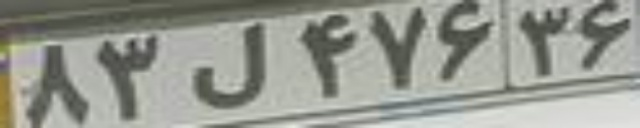3: (92, 34, 159, 121), (516, 6, 570, 77)
4: (297, 13, 352, 98)
6: (433, 1, 494, 84), (574, 0, 631, 71)
7: (365, 8, 426, 91)
8: (25, 42, 94, 126)
lam: (188, 22, 277, 109)
